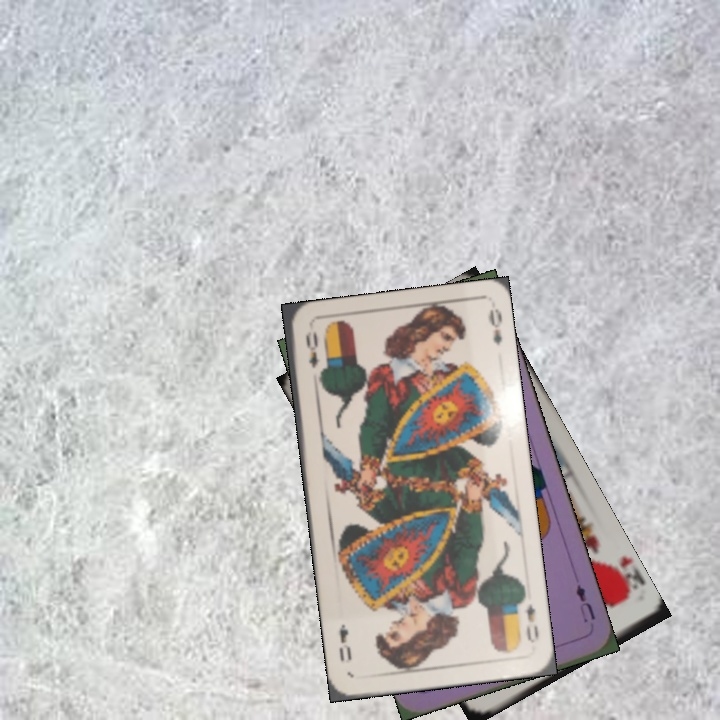EO: (513, 592, 542, 646), (301, 327, 321, 371)
EU: (571, 580, 598, 625)
HK: (600, 556, 644, 603)
